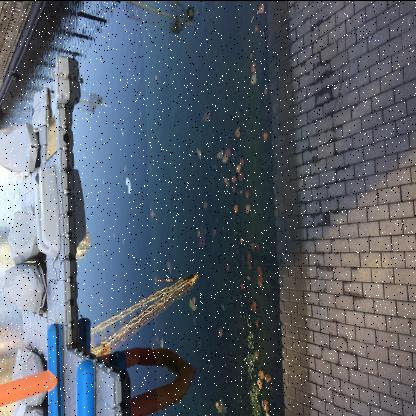paper: (126, 176, 132, 193)
